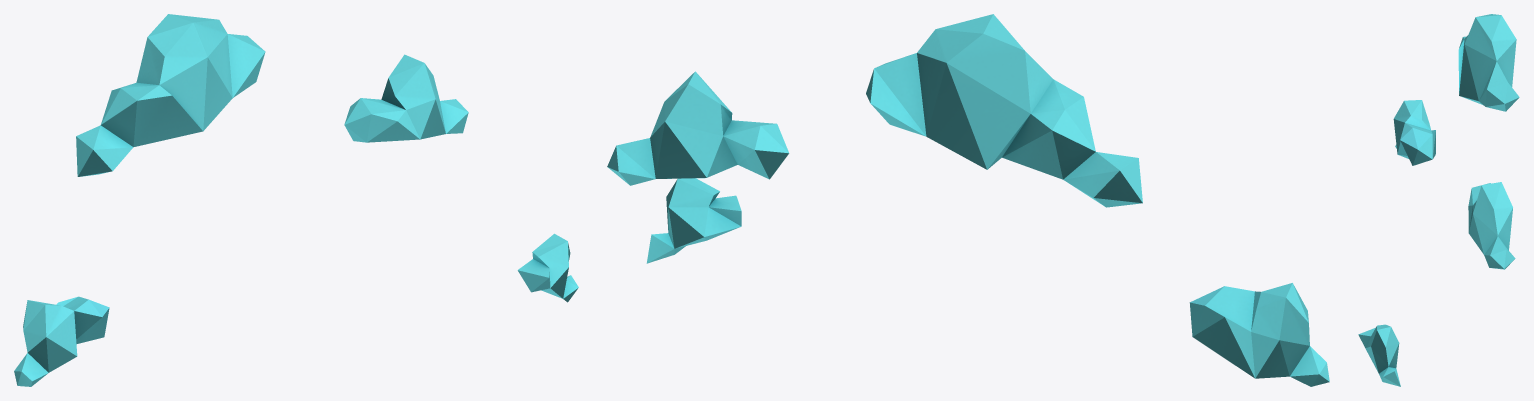
The model's file is Clouds.FBX.
The picture shows the model from 3 angles, left to right: view 1: azimuth 30°, elevation 25°; view 2: azimuth 150°, elevation 25°; view 3: azimuth 270°, elevation 25°; orthographic projection. The views are drawn at different scales.
Visible parts, largest first — view 1: Cloud; view 2: Cloud; view 3: Cloud.
Boxes of the visible parts, x1,y1,x2,y2 form: Cloud: [14, 14, 578, 386]; Cloud: [607, 14, 1329, 386]; Cloud: [1358, 14, 1519, 386].
Bounding box in the file's own units: 14027 × 7674 × 4569.
1 material, 1 textured.
